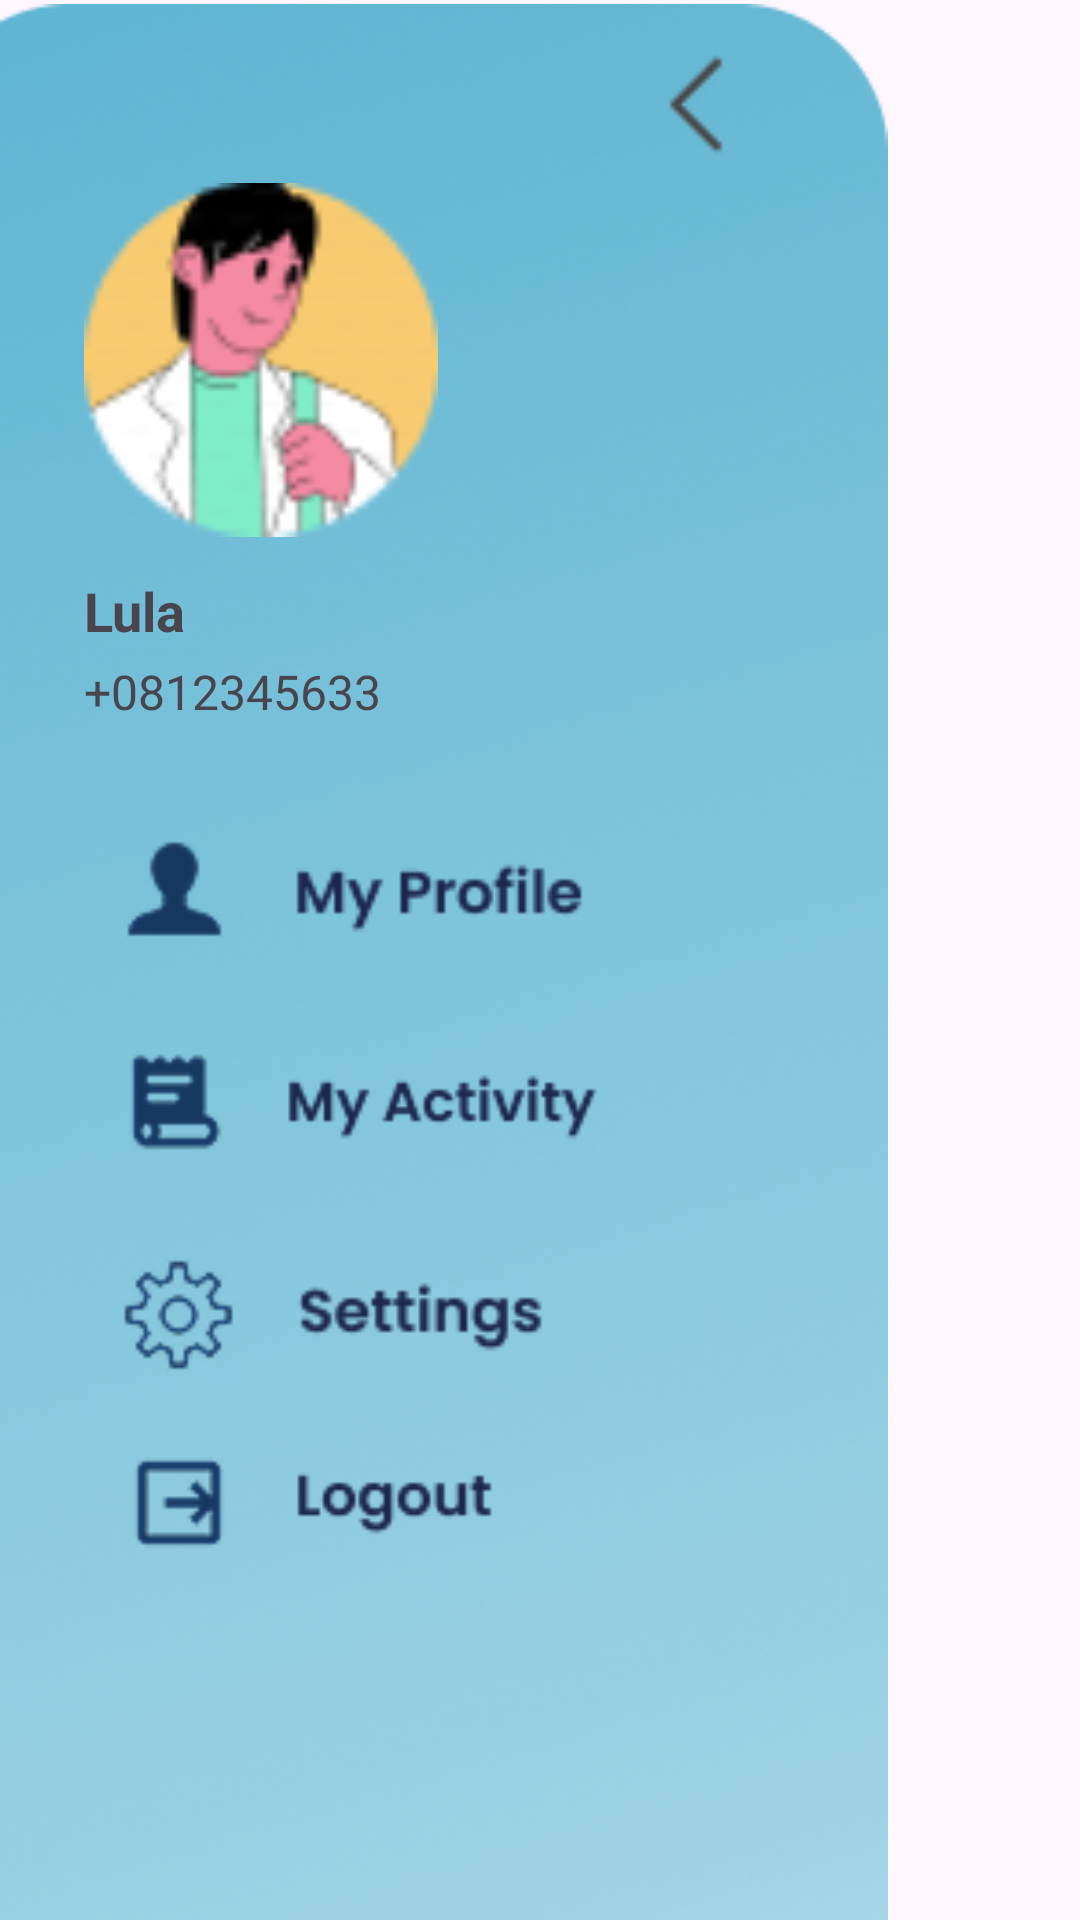

Point at icon controls on the screen. Image size 1080x1920, points as point (x, y).
back: point (696, 104)
profile: point (261, 360)
